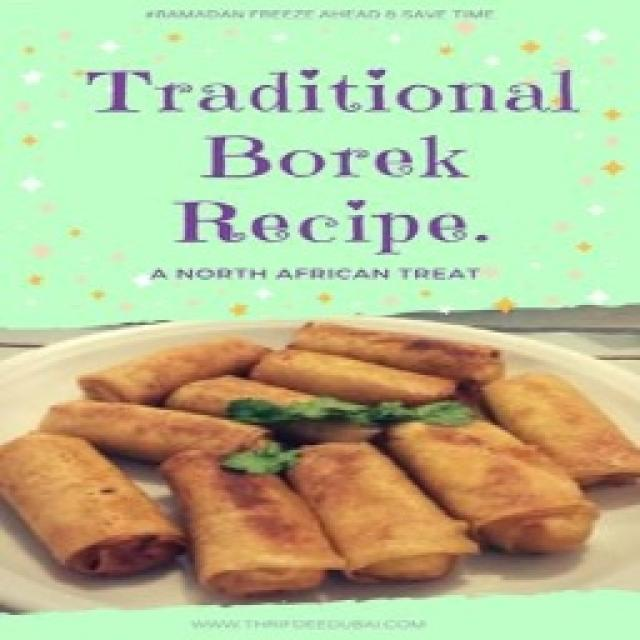Brik: (0, 322, 640, 600)
